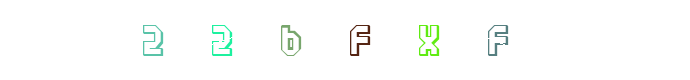2: (182, 0, 262, 80), (269, 0, 349, 80)
6: (298, 0, 378, 80)
F: (305, 0, 385, 80), (390, 0, 470, 80)
X: (320, 0, 400, 80)
